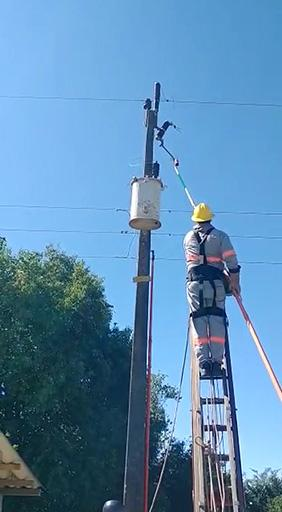Vara_Manobra: (173, 169, 282, 400)
